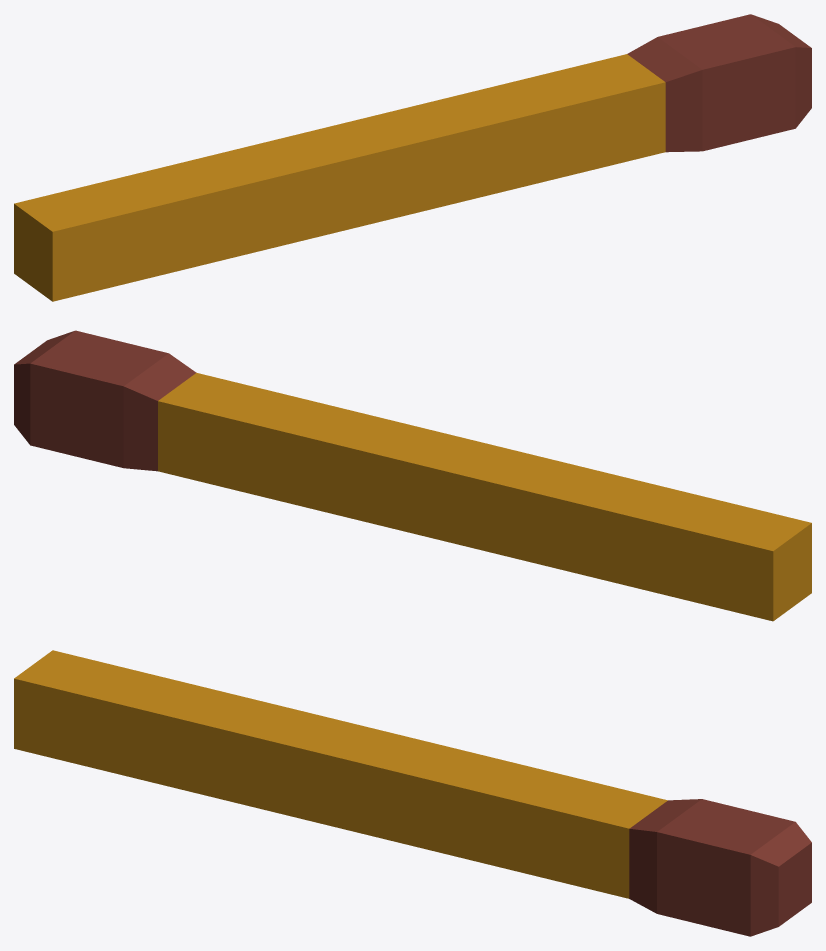
Rendered from match01.obj.
3 renders of one model, top to bottom at view 1: azimuth 30°, elevation 25°; view 2: azimuth 150°, elevation 25°; view 3: azimuth 330°, elevation 25°, orthographic.
Parts seen in each view (by area): view 1: Cube.001; view 2: Cube.001; view 3: Cube.001.
Boxes of the visible parts, left/top/right/bottom form: Cube.001: left=14, top=14, right=811, bottom=301; Cube.001: left=14, top=330, right=811, bottom=621; Cube.001: left=14, top=650, right=811, bottom=936.
Bounding box in the file's own units: 0.0591 × 0.00605 × 0.00605.
